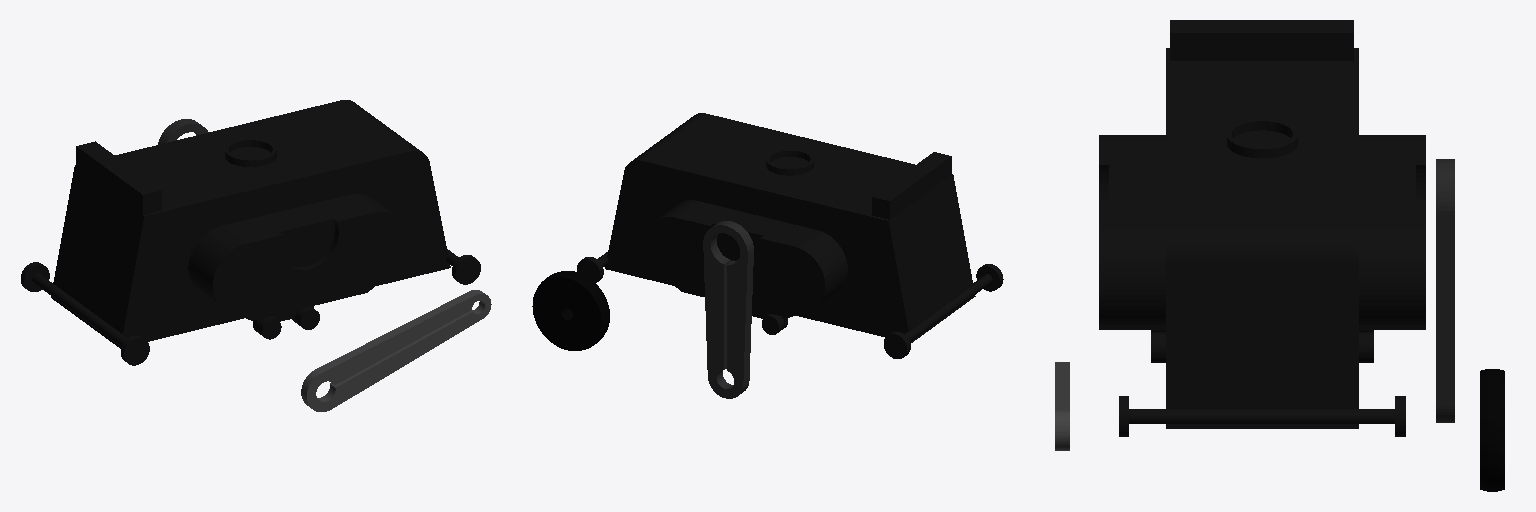
URDF robot description (Wheel-Legged-Infantry):
<?xml version="1.0" encoding="utf-8"?>

<robot name="Wheel-Legged-Infantry">
    <mujoco>
        <compiler meshdir="../meshes/" balanceinertia="false" discardvisual="false" fusestatic="false"/>
    </mujoco>
    <link name="base_link">
        <inertial>
            <origin xyz="0.0066 0 -0.0318" rpy="0 0 0"/>
            <mass value="11.513"/>
            <inertia ixx="0.1392" ixy="0.001321" ixz="-0.01715" iyy="0.2492" iyz="0.0002667" izz="0.3111"/>
        </inertial>
        <visual>
            <origin xyz="0 0 0" rpy="0 0 0"/>
            <geometry>
                <mesh filename="../meshes/base.STL"/>
            </geometry>
            <material name="">
                <color rgba="0.1 0.1 0.1 1"/>
            </material>
        </visual>
        <collision>
            <origin xyz="0 0 -0.03" rpy="0 0 0"/>
            <geometry>
                <box size="0.5 0.20 0.2"/>
            </geometry>
        </collision>
        <collision>
            <origin xyz="0 0 -0.04" rpy="0 0 0"/>
            <geometry>
                <box size="0.25 0.32 0.12"/>
            </geometry>
        </collision>
        <collision>
            <origin xyz="0.257 0 -0.115" rpy="1.57079632 0 0"/>
            <geometry>
                <cylinder length="0.28" radius="0.02"/>
            </geometry>
        </collision>
        <collision>
            <origin xyz="-0.257 0 -0.115" rpy="1.57079632 0 0"/>
            <geometry>
                <cylinder length="0.28" radius="0.02"/>
            </geometry>
        </collision>
        <collision>
            <origin xyz="0.03 0 -0.148" rpy="1.57079632 0 0"/>
            <geometry>
                <cylinder length="0.22" radius="0.015"/>
            </geometry>
        </collision>
        <collision>
            <origin xyz="-0.03 0 -0.148" rpy="1.57079632 0 0"/>
            <geometry>
                <cylinder length="0.22" radius="0.015"/>
            </geometry>
        </collision>
    </link>
    <link name="hip_l_link">
        <inertial>
            <origin xyz="0.098 0 0" rpy="0 0 0"/>
            <mass value="0.934"/>
            <inertia ixx="0.0002846" ixy="0.0000143136" ixz="0.0001012944" iyy="0.003525624" iyz="-0.0000042544" izz="0.0032762672"/>
        </inertial>
        <visual>
            <origin xyz="0 0 0" rpy="0 0 0"/>
            <geometry>
                <mesh filename="../meshes/hip_link_l.STL"/>
            </geometry>
            <material name="">
                <color rgba="0.2 0.2 0.2 1"/>
            </material>
        </visual>
        <collision>
            <origin xyz="0.105 0 0" rpy="0 0 0"/>
            <geometry>
                <box size="0.21 0.015 0.06"/>
            </geometry>
        </collision>
        <collision>
            <origin xyz="0.210 0 0" rpy="1.57079632 0 0"/>
            <geometry>
                <cylinder length="0.015" radius="0.03"/>
            </geometry> 
        </collision>
    </link>
    <joint name="hip_l_joint" type="continuous">
        <origin xyz="0 0.179 0" rpy="0 1.5708 0"/>
        <parent link="base_link"/>
        <child link="hip_l_link"/>
        <axis xyz="0 1 0"/>
        <limit effort="80" velocity="20"/>
    </joint>
    <link name="knee_l_link">
        <inertial>
            <origin xyz="0.123 0 0" rpy="0 0 0"/>
            <mass value="0.67"/>
            <inertia ixx="0.0009460464" ixy="0.0016010944" ixz="0.000006592" iyy="0.0033157904" iyz="-0.0000033216" izz="0.0042459008"/>
        </inertial>
        <visual>
            <origin xyz="0 0 0" rpy="0 0 0"/>
            <geometry>
                <mesh filename="../meshes/knee_link_l.STL"/>
            </geometry>
            <material name="">
                <color rgba="0.3 0.3 0.3 1"/>
            </material>
        </visual>
        <collision>
            <origin xyz="0.124 0 0" rpy="0 0 0"/>
            <geometry>
                <box size="0.248 0.015 0.06"/>
            </geometry>
        </collision>
        <collision>
            <origin xyz="0 0 0" rpy="1.57079632 0 0"/>
            <geometry>
                <cylinder length="0.018" radius="0.03"/>
            </geometry> 
        </collision>
    </link>
    <joint name="knee_l_joint" type="revolute">
        <origin xyz="0.210 0.0165 0" rpy="0 3.1416 0"/>
        <parent link="hip_l_link"/>
        <child link="knee_l_link"/>
        <axis xyz="0 1 0"/>
        <limit lower="0.416" upper="2.153" effort="80" velocity="20"/>
    </joint>
    <link name="wheel_l">
        <inertial>
            <origin xyz="0 0 0" rpy="0 0 0"/>
            <mass value="0.468"/>
            <inertia ixx="0.00034258" ixy="0.0" ixz="0.0" iyy="0.00001" iyz="0.0" izz="0.000343769"/>
        </inertial>
        <visual>
            <origin xyz="0 0 0" rpy="0 0 0"/>
            <geometry>
                <mesh filename="../meshes/wheel_l.STL"/>
            </geometry>
            <material name="">
                <color rgba="0.05 0.05 0.05 1"/>
            </material>
        </visual>
        <collision>
            <origin xyz="0 0 0" rpy="1.57079632 0 0"/>
            <geometry>
                <cylinder length="0.015" radius="0.06"/>
            </geometry>
        </collision>
    </link>
    <joint name="wheel_l_joint" type="continuous">
        <origin xyz="0.248 0.0295 0" rpy="0 0 0"/>
        <parent link="knee_l_link"/>
        <child link="wheel_l"/>
        <axis xyz="0 1 0"/>
        <limit effort="5" velocity="60"/>
    </joint>
    <link name="hip_r_link">
        <inertial>
            <origin xyz="0.098 0 0" rpy="0 0 0"/>
            <mass value="0.934"/>
            <inertia ixx="0.0002846" ixy="0.0000143136" ixz="0.0001012944" iyy="0.003525624" iyz="-0.0000042544" izz="0.0032762672"/>
        </inertial>
        <visual>
            <origin xyz="0 0 0" rpy="0 0 0"/>
            <geometry>
                <mesh filename="../meshes/hip_link_r.STL"/>
            </geometry>
            <material name="">
                <color rgba="0.2 0.2 0.2 1"/>
            </material>
        </visual>
        <collision>
            <origin xyz="0.105 0 0" rpy="0 0 0"/>
            <geometry>
                <box size="0.21 0.015 0.06"/>
            </geometry>
        </collision>
        <collision>
            <origin xyz="0.210 0 0" rpy="1.57079632 0 0"/>
            <geometry>
                <cylinder length="0.015" radius="0.03"/>
            </geometry> 
        </collision>
    </link>
    <joint name="hip_r_joint" type="continuous">
        <origin xyz="0 -0.179 0" rpy="0 1.5708 0"/>
        <parent link="base_link"/>
        <child link="hip_r_link"/>
        <axis xyz="0 1 0"/>
        <limit effort="80" velocity="20"/>
    </joint>
    <link name="knee_r_link">
        <inertial>
            <origin xyz="0.123 0 0" rpy="0 0 0"/>
            <mass value="0.67"/>
            <inertia ixx="0.0009460464" ixy="0.0016010944" ixz="0.000006592" iyy="0.0033157904" iyz="-0.0000033216" izz="0.0042459008"/>
        </inertial>
        <visual>
            <origin xyz="0 0 0" rpy="0 0 0"/>
            <geometry>
                <mesh filename="../meshes/knee_link_r.STL"/>
            </geometry>
            <material name="">
                <color rgba="0.3 0.3 0.3 1"/>
            </material>
        </visual>
        <collision>
            <origin xyz="0.124 0 0" rpy="0 0 0"/>
            <geometry>
                <box size="0.248 0.015 0.06"/>
            </geometry>
        </collision>
        <collision>
            <origin xyz="0 0 0" rpy="1.57079632 0 0"/>
            <geometry>
                <cylinder length="0.018" radius="0.03"/>
            </geometry> 
        </collision>
    </link>
    <joint name="knee_r_joint" type="revolute">
        <origin xyz="0.210 -0.0165 0" rpy="0 3.1416 0"/>
        <parent link="hip_r_link"/>
        <child link="knee_r_link"/>
        <axis xyz="0 1 0"/>
        <limit lower="0.416" upper="2.153" effort="80" velocity="20"/>
    </joint>
    <link name="wheel_r">
        <inertial>
            <origin xyz="0 0 0" rpy="0 0 0"/>
            <mass value="0.468"/>
            <inertia ixx="0.00034258" ixy="0.0" ixz="0.0" iyy="0.00001" iyz="0.0" izz="0.000343769"/>
        </inertial>
        <visual>
            <origin xyz="0 0 0" rpy="0 0 0"/>
            <geometry>
                <mesh filename="../meshes/wheel_r.STL"/>
            </geometry>
            <material name="">
                <color rgba="0.05 0.05 0.05 1"/>
            </material>
        </visual>
        <collision>
            <origin xyz="0 0 0" rpy="1.57079632 0 0"/>
            <geometry>
                <cylinder length="0.015" radius="0.06"/>
            </geometry>
        </collision>
    </link>
    <joint name="wheel_r_joint" type="revolute">
        <origin xyz="0.248 -0.0295 0" rpy="0 0 0"/>
        <parent link="knee_r_link"/>
        <child link="wheel_r"/>
        <axis xyz="0 1 0"/>
        <limit effort="100" velocity="60"/>
    </joint>

</robot>

--- What the picture shows (computed from the rendered views, not written in the file) ---
3 views of the same robot in one strip: view 1: azimuth 30°, elevation 25°; view 2: azimuth 150°, elevation 25°; view 3: azimuth 270°, elevation 25° (orthographic).
Robot: Wheel-Legged-Infantry — 7 links, 6 joints (3 revolute, 3 continuous); root link base_link; default pose: all joints at 0 but 2 set to mid-range because 0 is outside their limits (knee_l_joint = 1.28, knee_r_joint = 1.28).
Links seen in each view (by area): view 1: base_link, knee_r_link, hip_l_link; view 2: base_link, hip_l_link, wheel_l; view 3: base_link, hip_l_link, wheel_l, knee_r_link.
Link boxes in pixels (left/top/right/bottom): base_link: left=21, top=100, right=480, bottom=365; knee_r_link: left=301, top=290, right=491, bottom=411; hip_l_link: left=158, top=119, right=208, bottom=144; base_link: left=577, top=113, right=1003, bottom=358; hip_l_link: left=703, top=221, right=753, bottom=398; wheel_l: left=532, top=271, right=609, bottom=350; base_link: left=1099, top=20, right=1425, bottom=436; hip_l_link: left=1436, top=159, right=1454, bottom=422; wheel_l: left=1480, top=369, right=1504, bottom=491; knee_r_link: left=1055, top=362, right=1069, bottom=450.
Size in the robot's own frame: 0.5759 by 0.4405 by 0.3285 metres.
Meshes: 7 distinct files referenced, 4 mesh visuals loaded (4 binary STL); not drawn: 3 (reference not matched to a file when rendering).